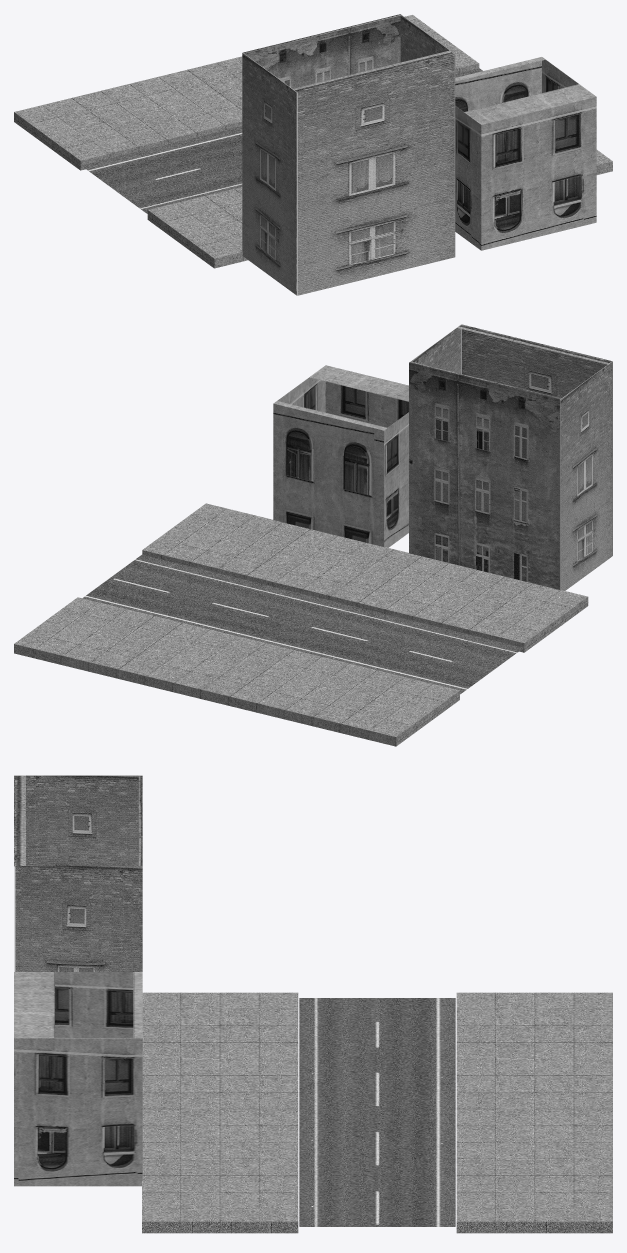
File: Enviro.fbx
The picture shows the model from 3 angles, top to bottom: view 1: azimuth 30°, elevation 25°; view 2: azimuth 150°, elevation 25°; view 3: azimuth 270°, elevation 25°; orthographic projection. The views are drawn at different scales.
Visible parts, largest first — view 1: Building1, Building2, PavementR, Road, PavementL; view 2: Building1, PavementR, PavementL, Road, Building2; view 3: PavementR, PavementL, Road, Building2, Building1.
Part boxes in pixels (bbox=[...]): Building1: bbox=[242, 14, 455, 295]; Building2: bbox=[455, 57, 596, 250]; PavementR: bbox=[14, 15, 479, 170]; Road: bbox=[81, 68, 482, 213]; PavementL: bbox=[147, 150, 612, 268]; Building1: bbox=[409, 324, 612, 590]; PavementR: bbox=[14, 597, 459, 746]; PavementL: bbox=[142, 503, 588, 652]; Road: bbox=[82, 554, 523, 694]; Building2: bbox=[273, 365, 408, 547]; PavementR: bbox=[456, 992, 612, 1233]; PavementL: bbox=[142, 992, 298, 1233]; Road: bbox=[299, 998, 455, 1226]; Building2: bbox=[14, 972, 142, 1186]; Building1: bbox=[14, 775, 142, 971].
Bounding box in the file's own units: 169 × 86.47 × 187.
